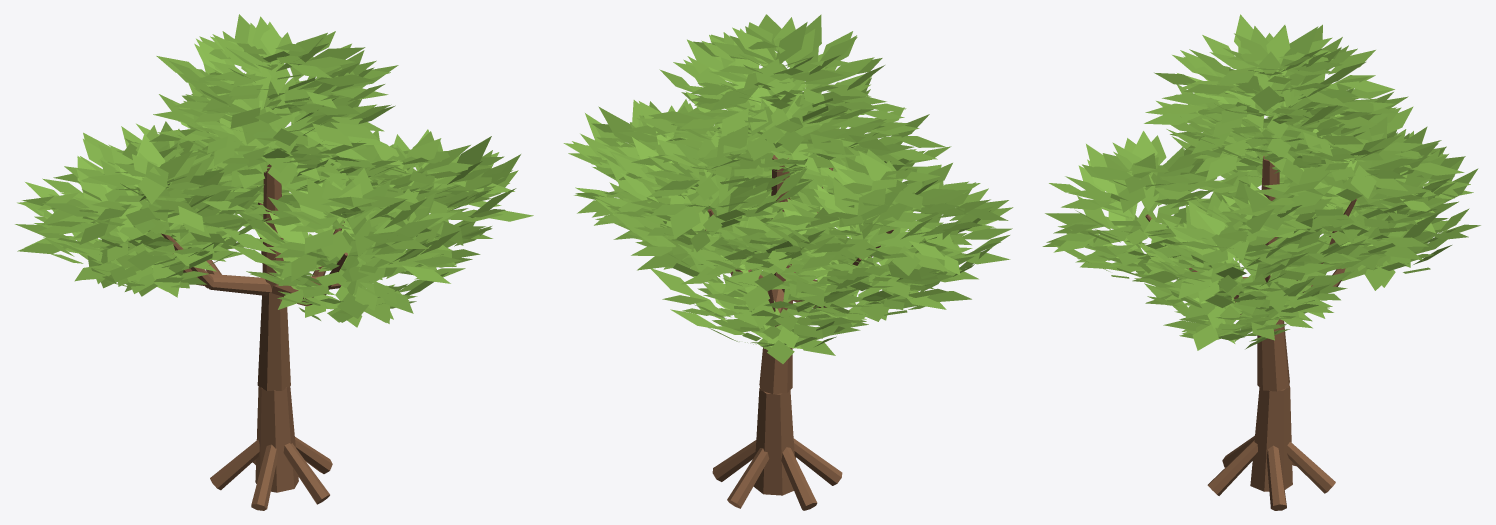
The model's file is Tree_47.glb.
The picture shows the model from 3 angles, left to right: view 1: azimuth 30°, elevation 25°; view 2: azimuth 150°, elevation 25°; view 3: azimuth 270°, elevation 25°; orthographic projection.
Visible parts, largest first — view 1: Tree_47; view 2: Tree_47; view 3: Tree_47.
Part boxes in pixels (box(x1,y1,x2,y2)): Tree_47: box(15, 14, 533, 510); Tree_47: box(563, 14, 1013, 510); Tree_47: box(1042, 14, 1480, 510).
Bounding box in the file's own units: 6.06 × 5.83 × 5.18.
